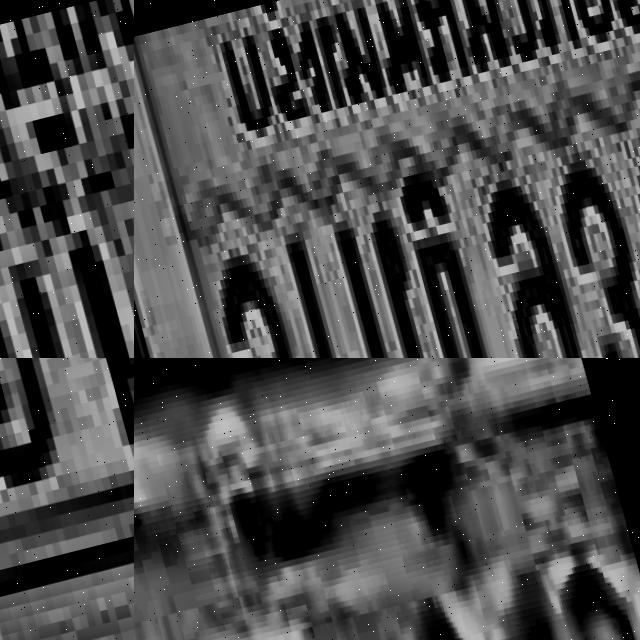license-plate: (134, 0, 640, 358), (134, 358, 640, 640), (0, 0, 134, 358), (0, 358, 134, 640)
